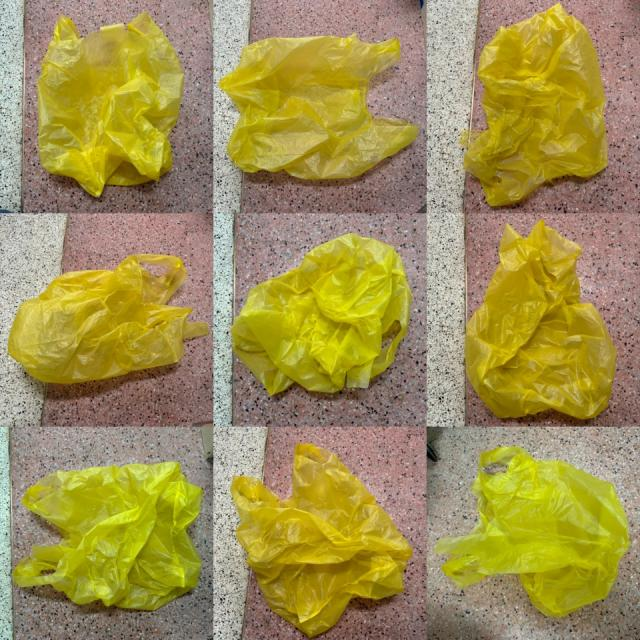Single-layer Plastic: (231, 444, 412, 637), (436, 448, 630, 616), (465, 221, 616, 419), (464, 4, 608, 206), (219, 34, 418, 179), (231, 234, 411, 394), (12, 461, 202, 609), (38, 12, 184, 196), (9, 254, 209, 383)
